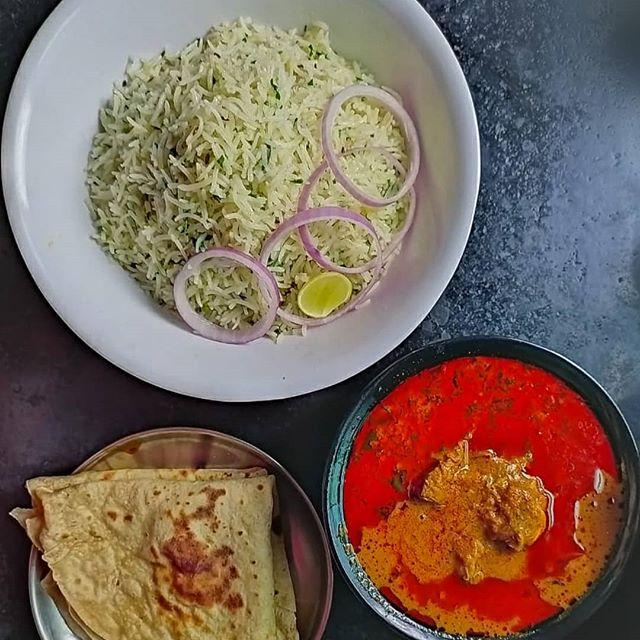Roti: (12, 464, 316, 640)
White Rice: (86, 22, 428, 339)
